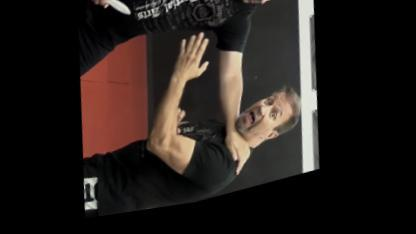knife: (87, 0, 137, 29)
